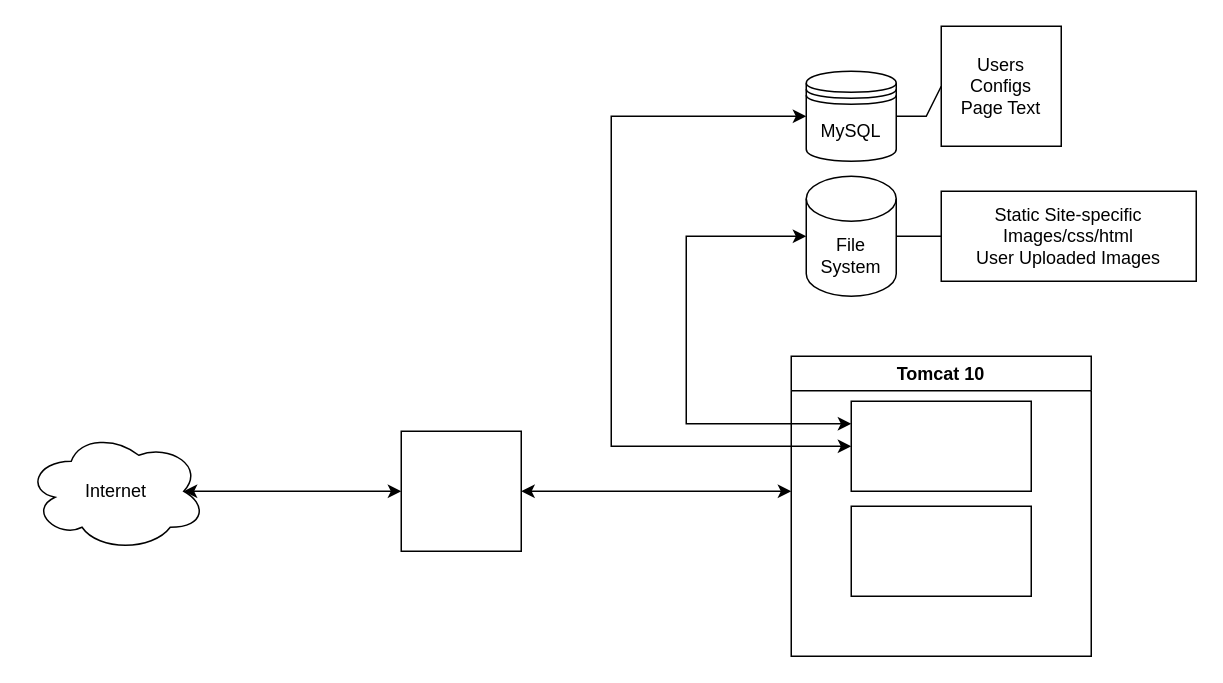
The diagram is 1223 pixels wide and 683 high, and some of its shapes have lost their labels. Each missing label, with the centre of its shape:
"LazerWiki" belongs at (x=940, y=445).
"LazerWiki UI" belongs at (x=940, y=550).
"Nginx" belongs at (x=460, y=490).
